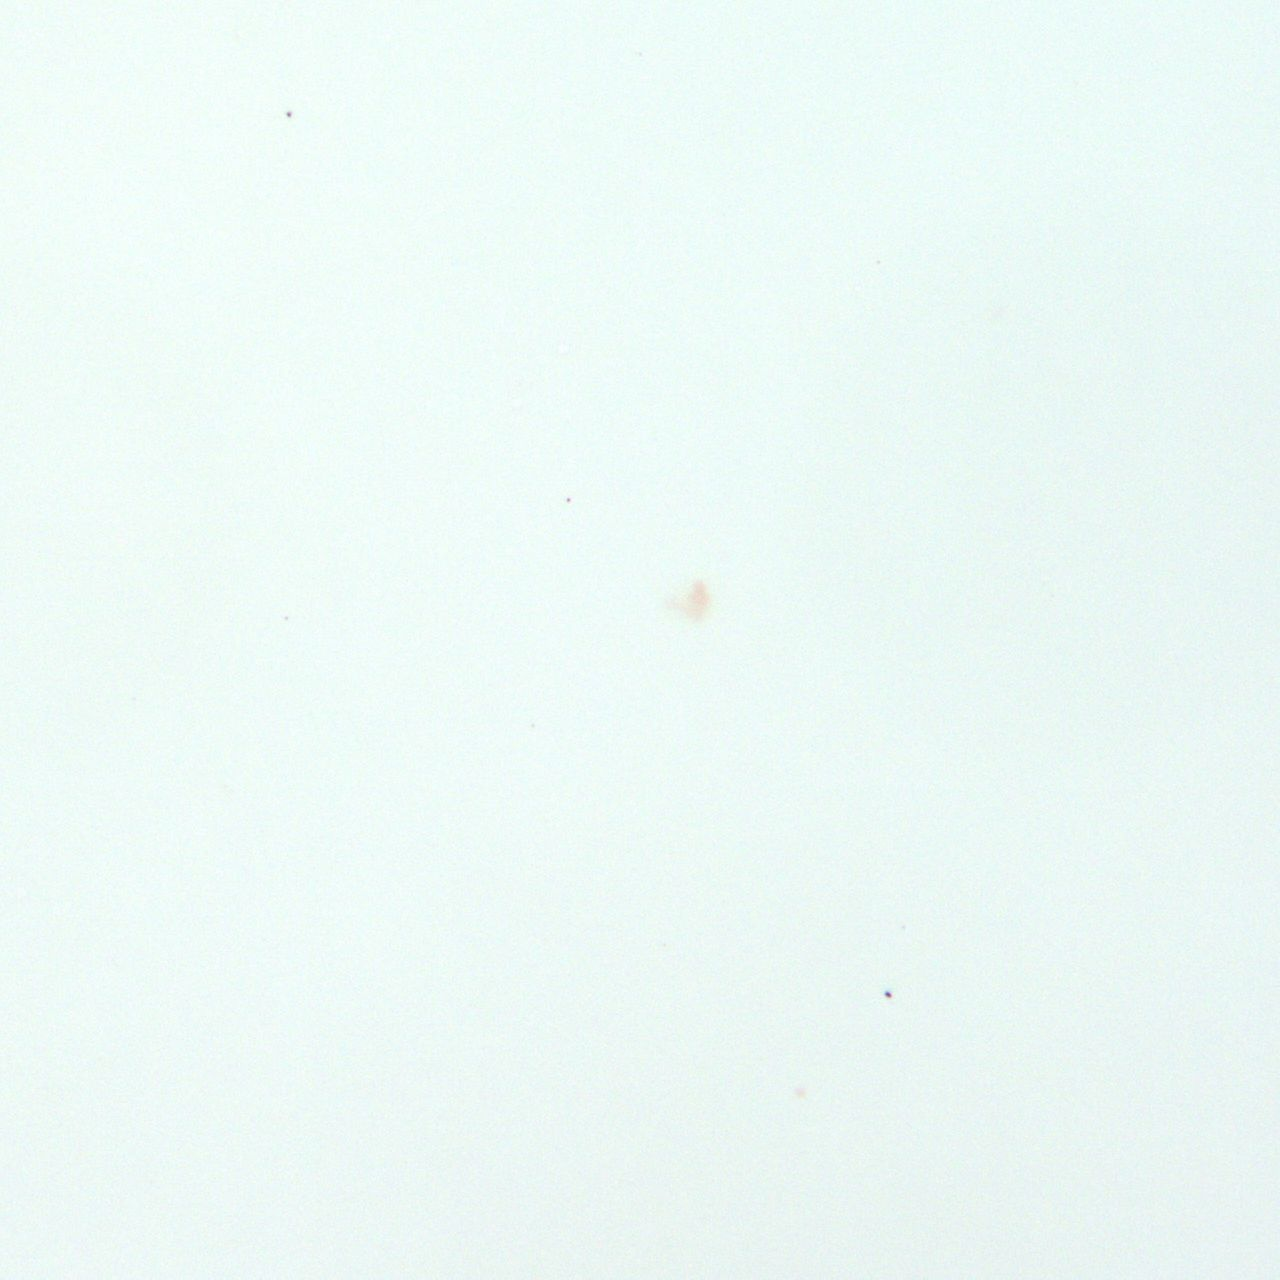dust: (883, 990, 892, 999), (286, 113, 291, 120), (566, 497, 571, 502)
